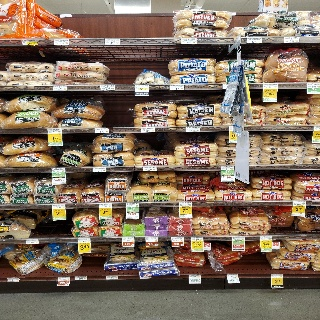All PRICE TAGS: (53, 39, 69, 46), (104, 38, 120, 45), (284, 37, 300, 43), (263, 83, 278, 89), (181, 38, 196, 44), (100, 85, 115, 91), (135, 84, 149, 90), (170, 84, 184, 90), (247, 38, 262, 43), (22, 40, 37, 45), (53, 85, 67, 90), (48, 128, 62, 133), (95, 128, 109, 133), (186, 127, 200, 132), (92, 167, 106, 172), (143, 166, 157, 171), (26, 239, 39, 244), (293, 201, 306, 206), (141, 127, 154, 132), (52, 204, 65, 209), (99, 203, 112, 208), (122, 237, 134, 242), (58, 276, 70, 281), (106, 275, 118, 280), (51, 168, 65, 172), (221, 166, 234, 170), (179, 202, 192, 206), (77, 238, 90, 242), (145, 237, 158, 241), (8, 278, 20, 282), (260, 236, 272, 240), (271, 274, 283, 278), (126, 203, 138, 207), (171, 237, 183, 241), (191, 237, 203, 241), (75, 276, 87, 280), (227, 274, 238, 278), (233, 237, 245, 240), (189, 275, 200, 278), (140, 277, 152, 278)
